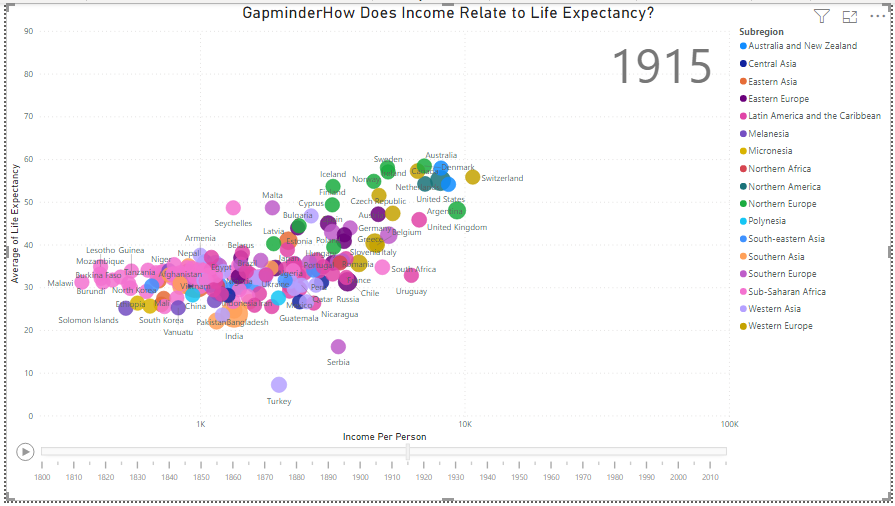

This screenshot's page, from the dashboard's own definition file:
{"tool":"powerbi","page":{"name":"Page 1","canvas":[1280,720],"ordinal":0},"visuals":[{"type":"scatterChart","title":"GapminderHow Does Income Relate to Life Expectancy?","fields":{"Size":["Sum(gapminder.Population)"],"X":["Sum(gapminder.Income Per Person)"],"Y":["Avg(gapminder.Life Expectancy)"],"Play":["gapminder.Year"],"Category":["gapminder.Country"],"Series":["region.Subregion"]},"box":[0,0,1280,719.6],"z":0}]}

Visuals, with their boxes in screenshot pixels (x1, y1, x2, y2), scaled from the page's 1280x720 canvas onto the 895x506 screenshot:
"GapminderHow Does Income Relate to Life Expectancy?" scatterChart: 0, 0, 894, 505
